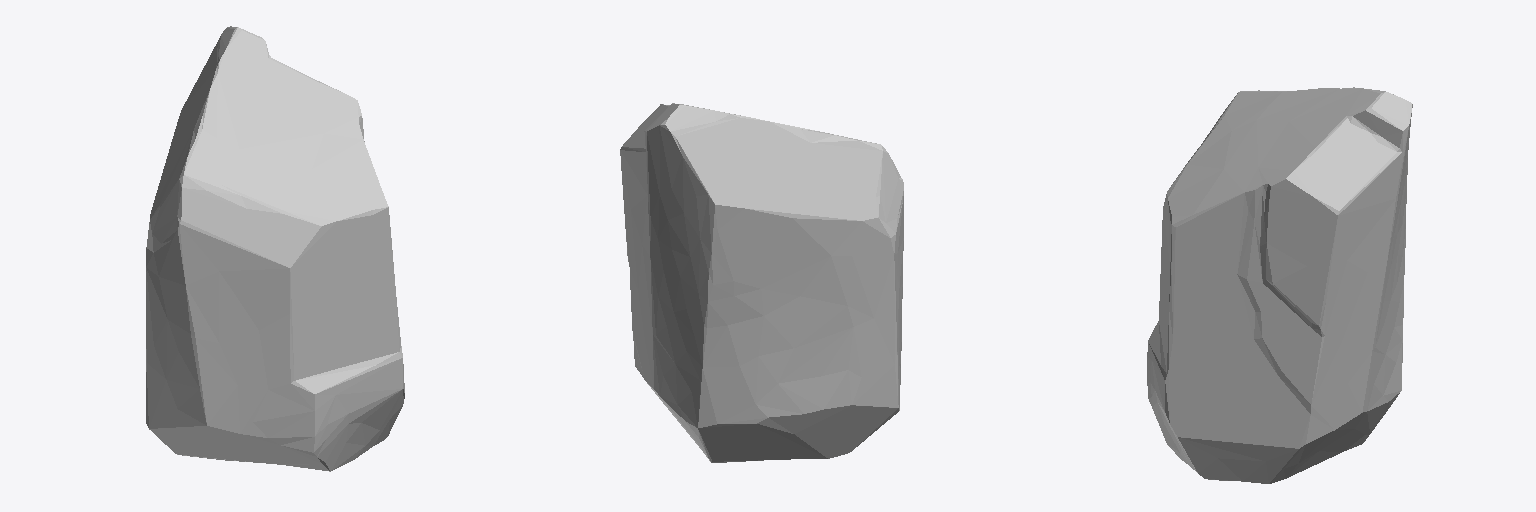
The model's file is sm_rock6.OBJ.
3 views of the same model, side by side, from view 1: azimuth 30°, elevation 25°; view 2: azimuth 150°, elevation 25°; view 3: azimuth 270°, elevation 25° (orthographic).
Parts seen in each view (by area): view 1: ZBrushPolyMesh3D; view 2: ZBrushPolyMesh3D; view 3: ZBrushPolyMesh3D.
Part boxes in pixels (x1,y1,x2,y2): ZBrushPolyMesh3D: (146, 26, 404, 471); ZBrushPolyMesh3D: (620, 103, 903, 462); ZBrushPolyMesh3D: (1147, 87, 1412, 483).
Bounding box in the file's own units: 1.69 × 2.43 × 1.61.